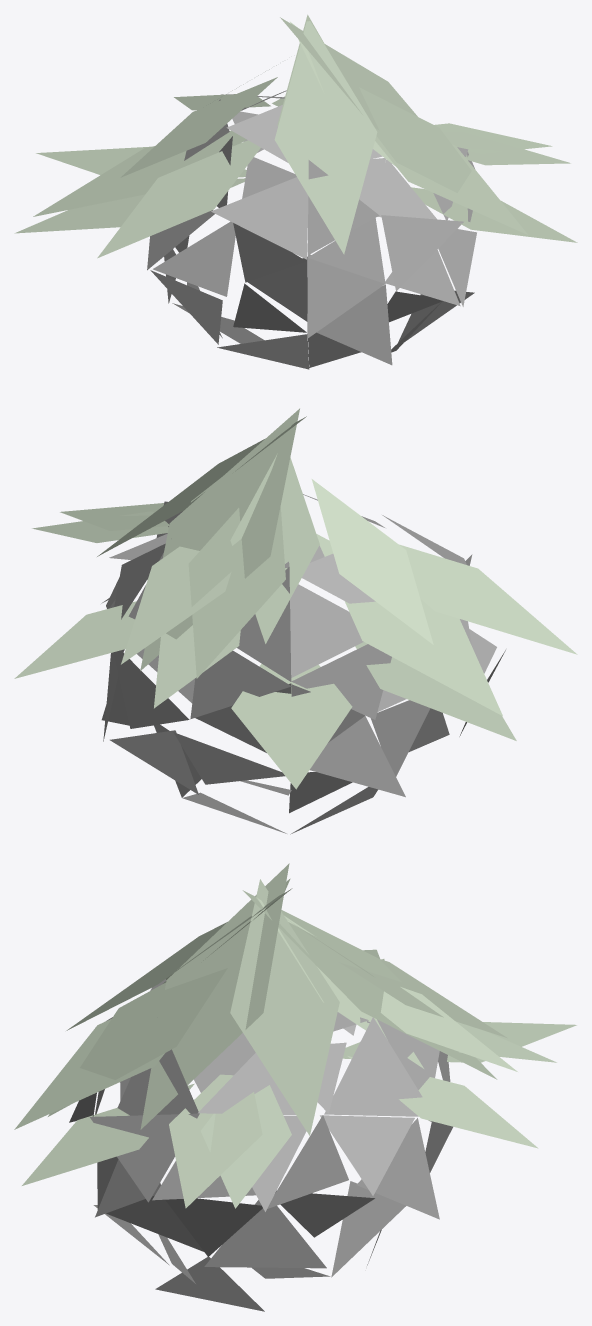
Rendered from 1733-Buildings-part-models-bush.glb.
3 renders of one model, top to bottom at view 1: azimuth 30°, elevation 25°; view 2: azimuth 150°, elevation 25°; view 3: azimuth 270°, elevation 25°, orthographic. The views are drawn at different scales.
Visible parts, largest first — view 1: Buildings: part models/bush; view 2: Buildings: part models/bush; view 3: Buildings: part models/bush.
Part boxes in pixels (left/top/right/bottom): Buildings: part models/bush: left=14, top=14, right=577, bottom=369; Buildings: part models/bush: left=14, top=408, right=577, bottom=834; Buildings: part models/bush: left=14, top=863, right=576, bottom=1311.
Bounding box in the file's own units: 0.4959 × 0.3306 × 0.436.
